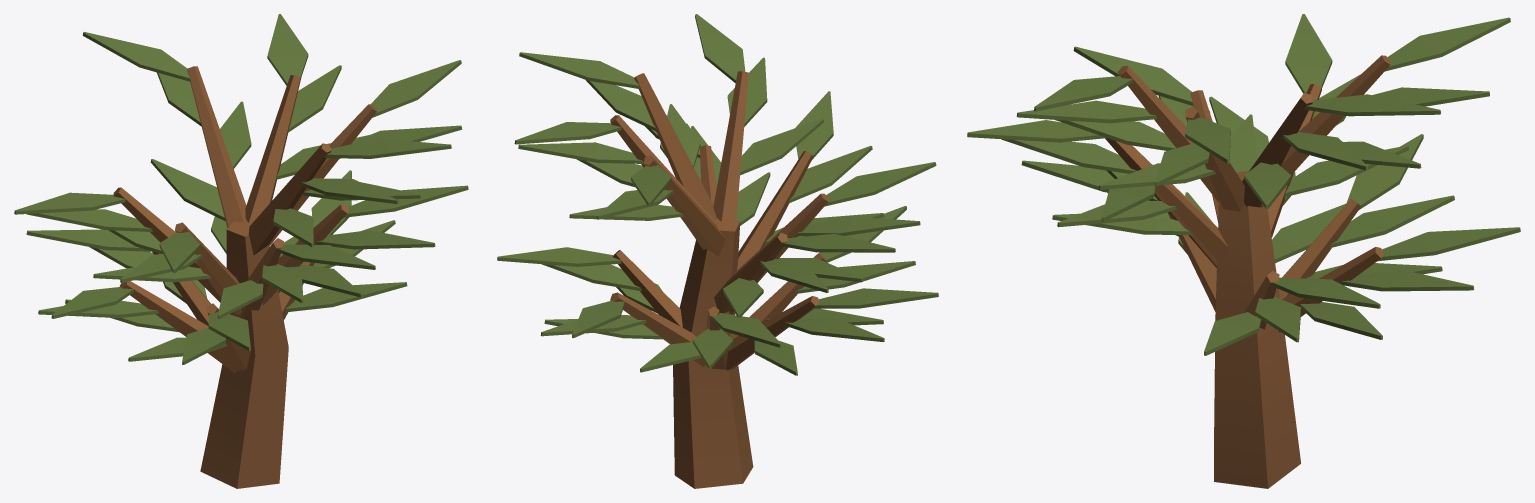
The model's file is crop_olive_tree_growing.glb.
3 views of the same model, side by side, from view 1: azimuth 30°, elevation 25°; view 2: azimuth 150°, elevation 25°; view 3: azimuth 270°, elevation 25° (orthographic). The views are drawn at different scales.
Parts seen in each view (by area): view 1: olive_crop_leaf_00_00, olive_crop_branch_00; view 2: olive_crop_leaf_00_00, olive_crop_branch_00; view 3: olive_crop_leaf_00_00, olive_crop_branch_00.
Part boxes in pixels (x1,y1,x2,y2): olive_crop_leaf_00_00: (14, 14, 468, 364); olive_crop_branch_00: (113, 66, 376, 488); olive_crop_leaf_00_00: (497, 14, 938, 375); olive_crop_branch_00: (610, 71, 829, 488); olive_crop_leaf_00_00: (967, 14, 1520, 355); olive_crop_branch_00: (1105, 55, 1391, 488).
Bounding box in the file's own units: 0.7993 × 0.6833 × 0.8035.
